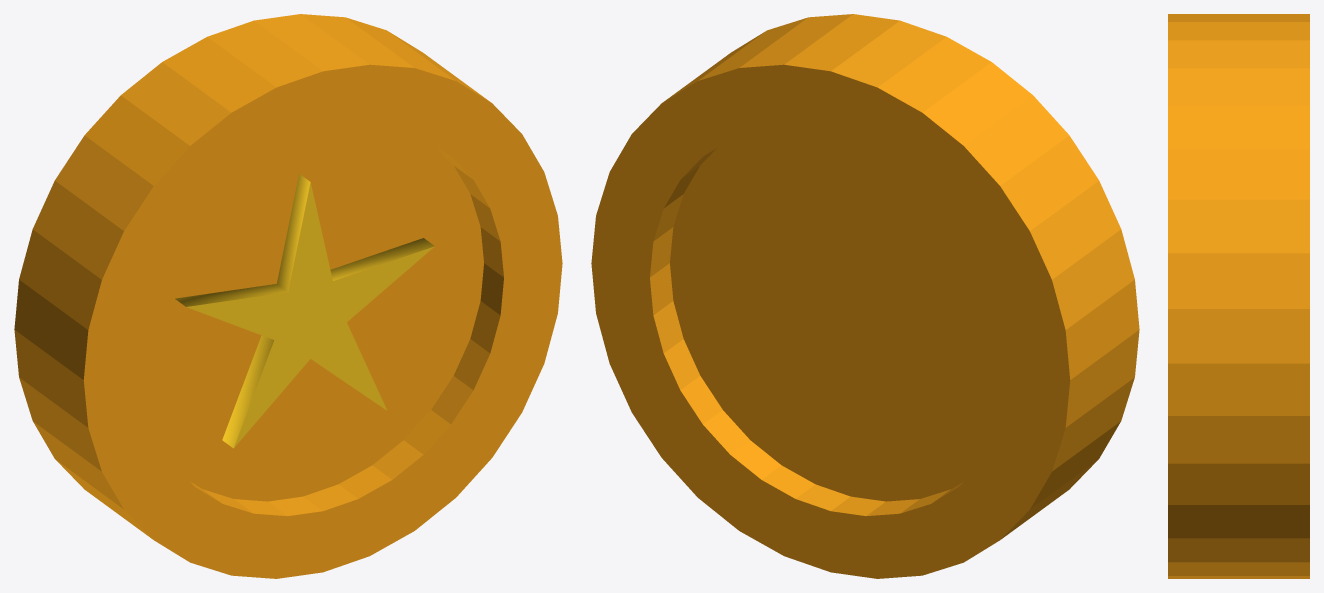
The model's file is Coin1.fbx.
3 renders of one model, left to right at view 1: azimuth 30°, elevation 25°; view 2: azimuth 150°, elevation 25°; view 3: azimuth 270°, elevation 25°, orthographic. The views are drawn at different scales.
Parts seen in each view (by area): view 1: Coin.002; view 2: Coin.002; view 3: Coin.002.
Boxes of the visible parts, <box> form: Coin.002: <box>14,14,562,578</box>; Coin.002: <box>591,14,1139,578</box>; Coin.002: <box>1168,14,1309,578</box>.
Bounding box in the file's own units: 200 × 200 × 50.16.
